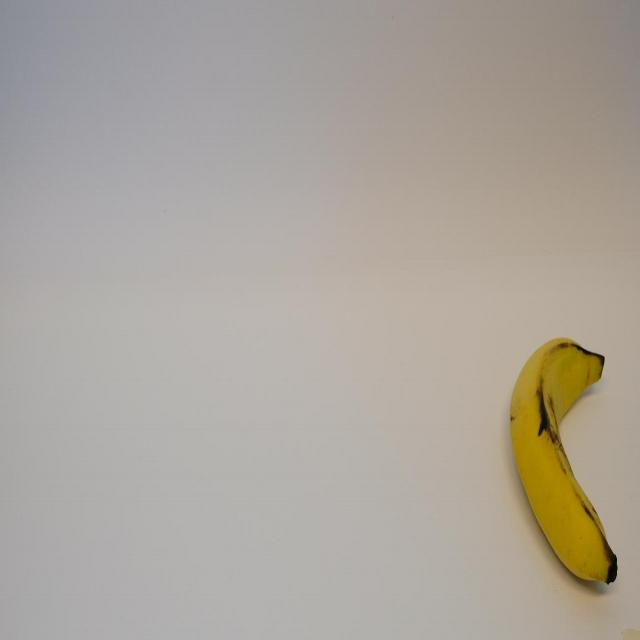banana: (506, 321, 620, 598)
